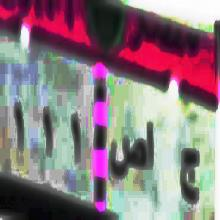1: (39, 102, 56, 176), (68, 108, 84, 170), (11, 97, 27, 159)
alif: (146, 119, 156, 173)
jeem: (176, 140, 199, 212)
saad: (109, 126, 145, 187)
